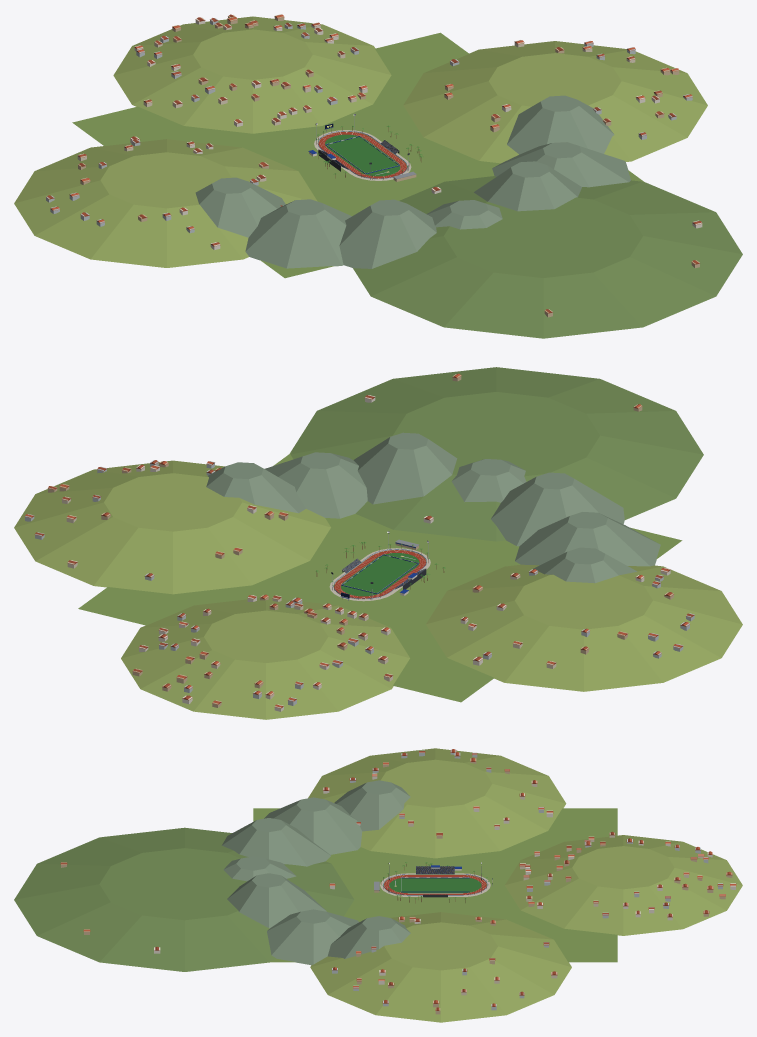
The model's file is coastal.glb.
3 renders of one model, top to bottom at view 1: azimuth 30°, elevation 25°; view 2: azimuth 150°, elevation 25°; view 3: azimuth 270°, elevation 25°, orthographic. The views are drawn at different scales.
Visible parts, largest first — view 1: coastal; view 2: coastal; view 3: coastal.
Part boxes in pixels (bbox=[...]): coastal: bbox=[14, 14, 742, 338]; coastal: bbox=[14, 367, 742, 719]; coastal: bbox=[14, 748, 742, 1022].
Bounding box in the file's own units: 1140 × 66.8 × 1280.
32 materials, 1 textured.
